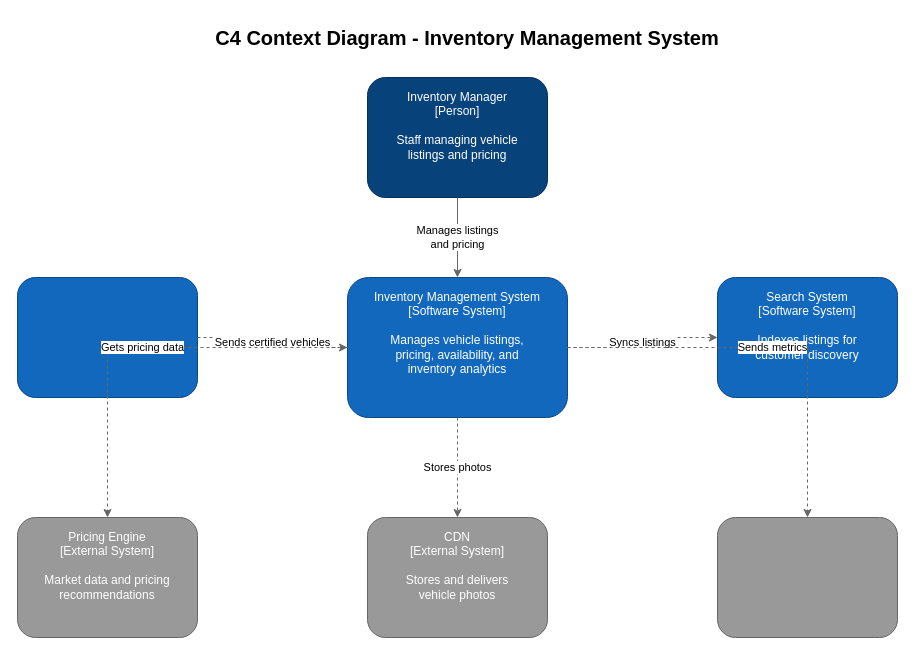
Image size: 915x655. Some labels were removed from this diagram. The box of each missing label's shape, as (x1, y1, x2, y2) in pixels:
Analytics Service [External System] Inventory performance metrics: (716, 516, 898, 638)
Reconditioning System [Software System] Sends certified vehicles for listing: (16, 276, 198, 398)
